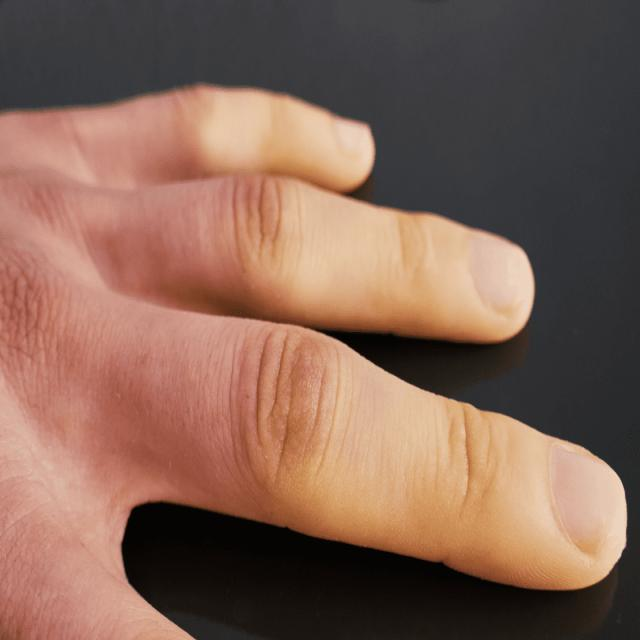raynauds: (292, 333, 622, 598), (269, 174, 540, 353), (182, 65, 377, 192)
